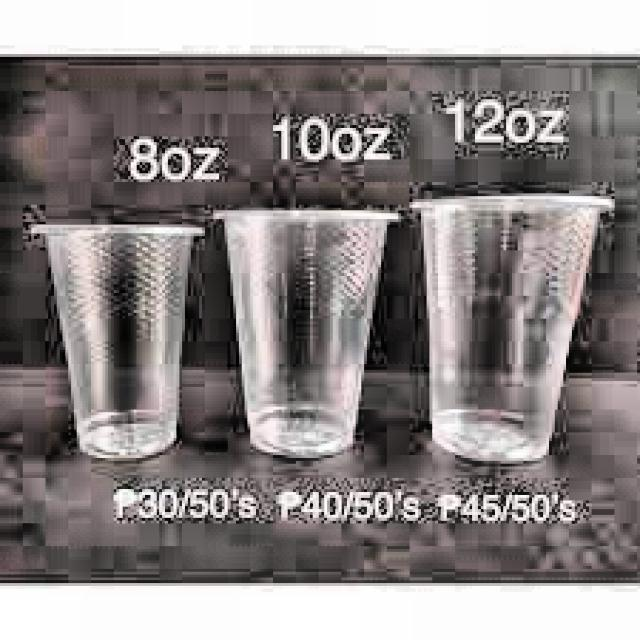plastic cup: (412, 191, 608, 462), (205, 197, 400, 456), (30, 218, 205, 464)
